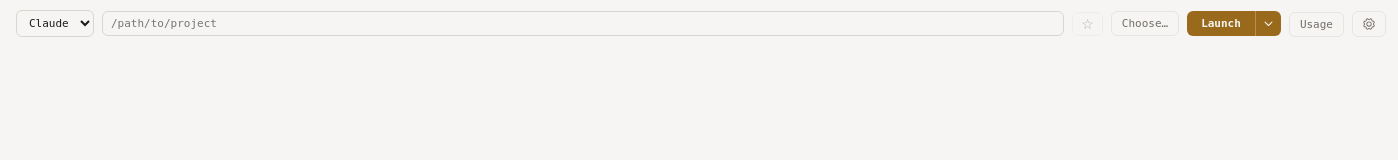
LaunchBar › refuses to launch with no directory chosen
The image size is (1398, 160).
Click the button "Launch" at (1221, 24), box [1187,11,1255,36]
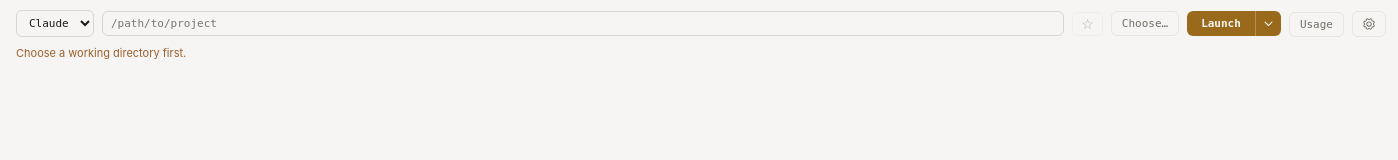
Check: the text "Choose a working directory first." is shown, box [16,46,186,60]
